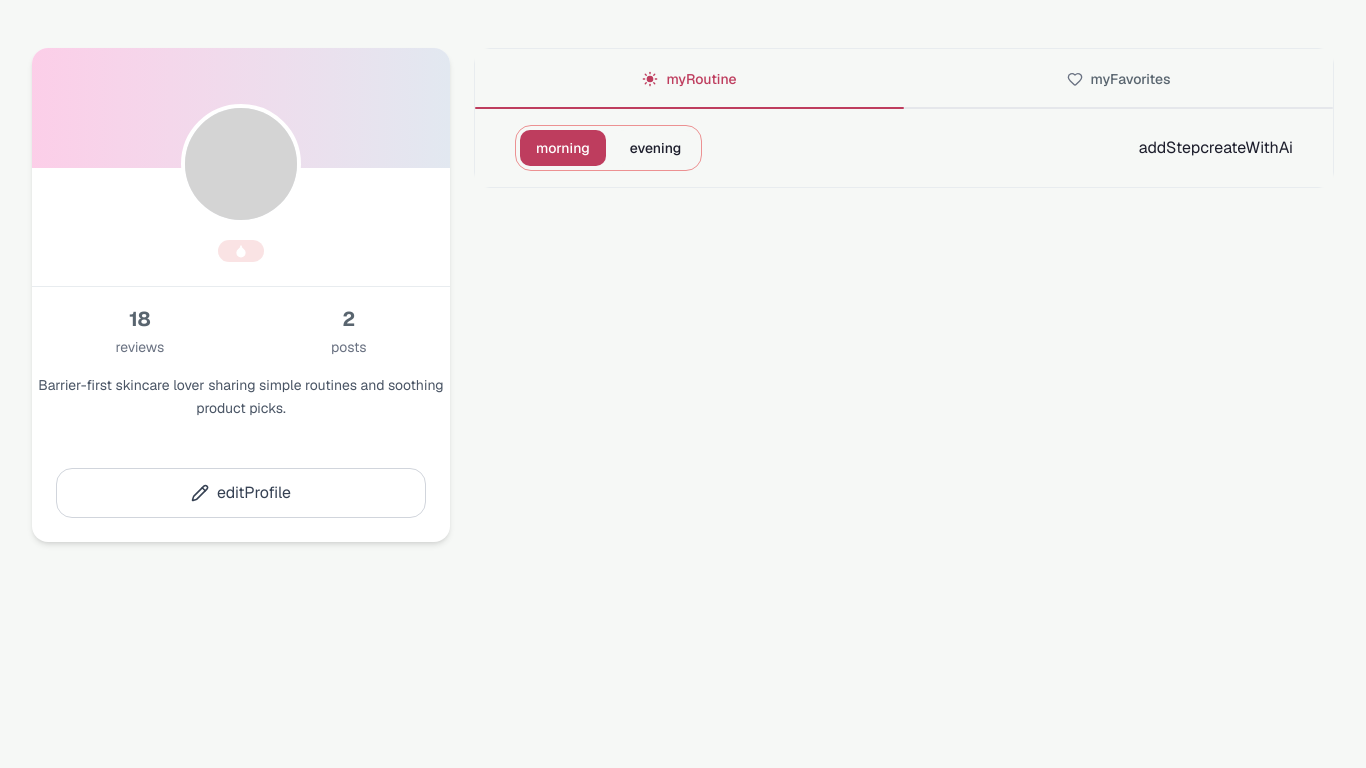
Test: HU-03: Profile Page › cierra modal al cancelar
This screenshot has width=1366, height=768.
Step 1. Click the button "editProfile" → click(241, 493), box x1=56 y1=468 x2=426 y2=518
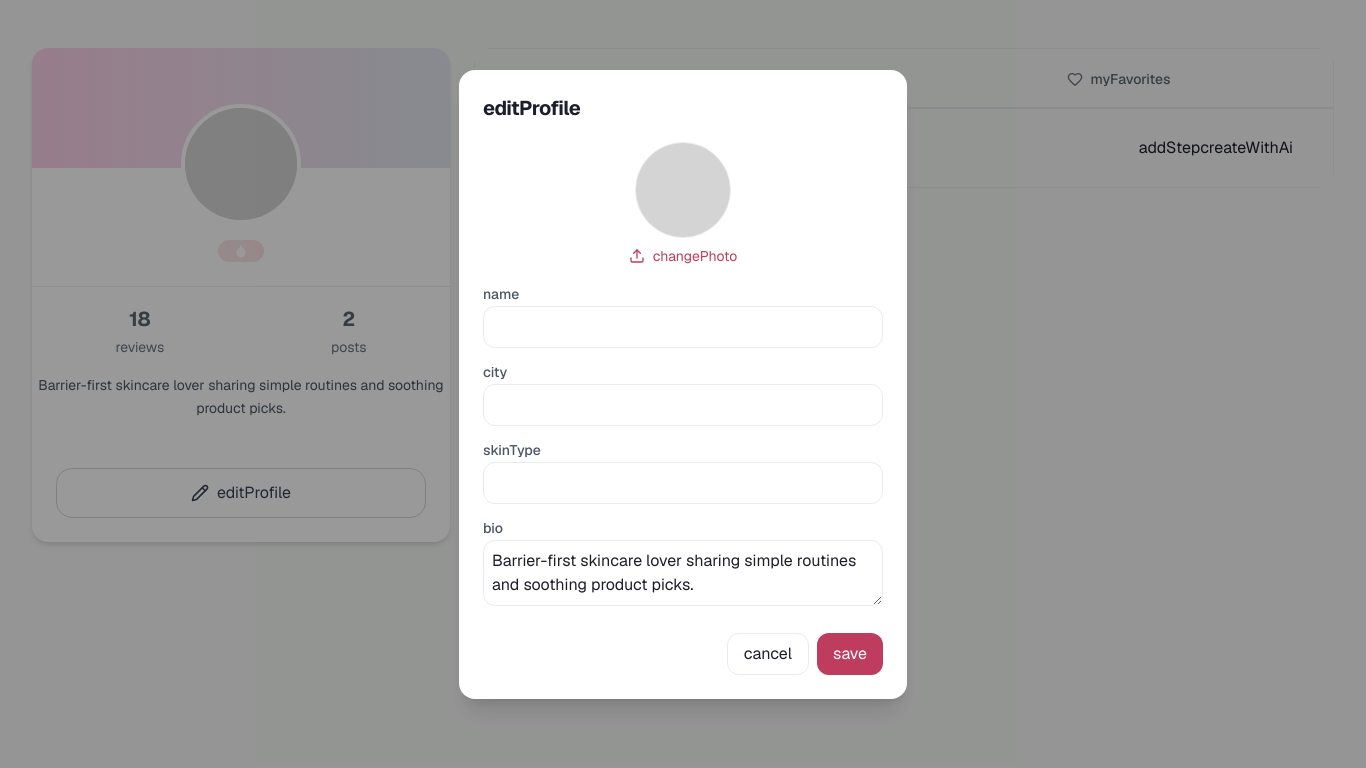
Step 2. Click the button "cancel" → click(768, 654), box x1=727 y1=632 x2=809 y2=674
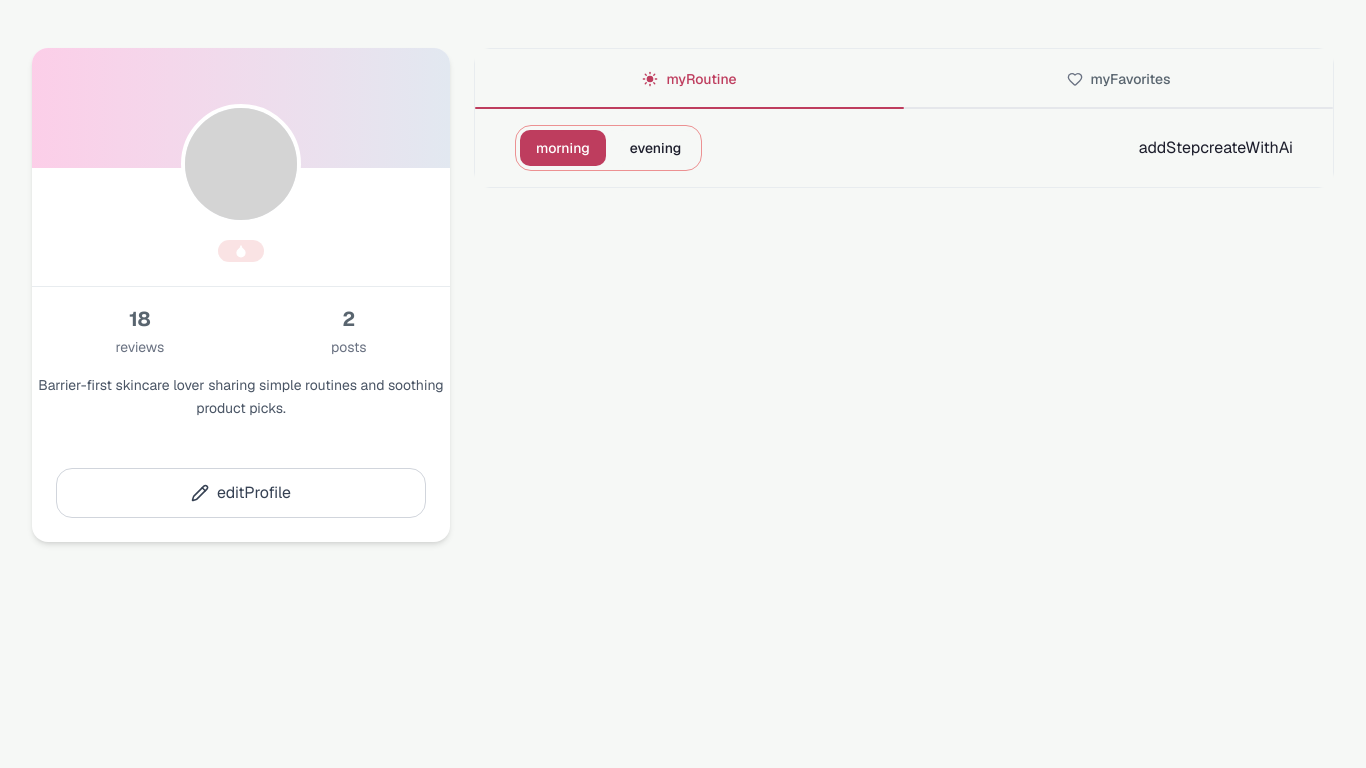
Expected: the element with test id "edit-modal" is gone
